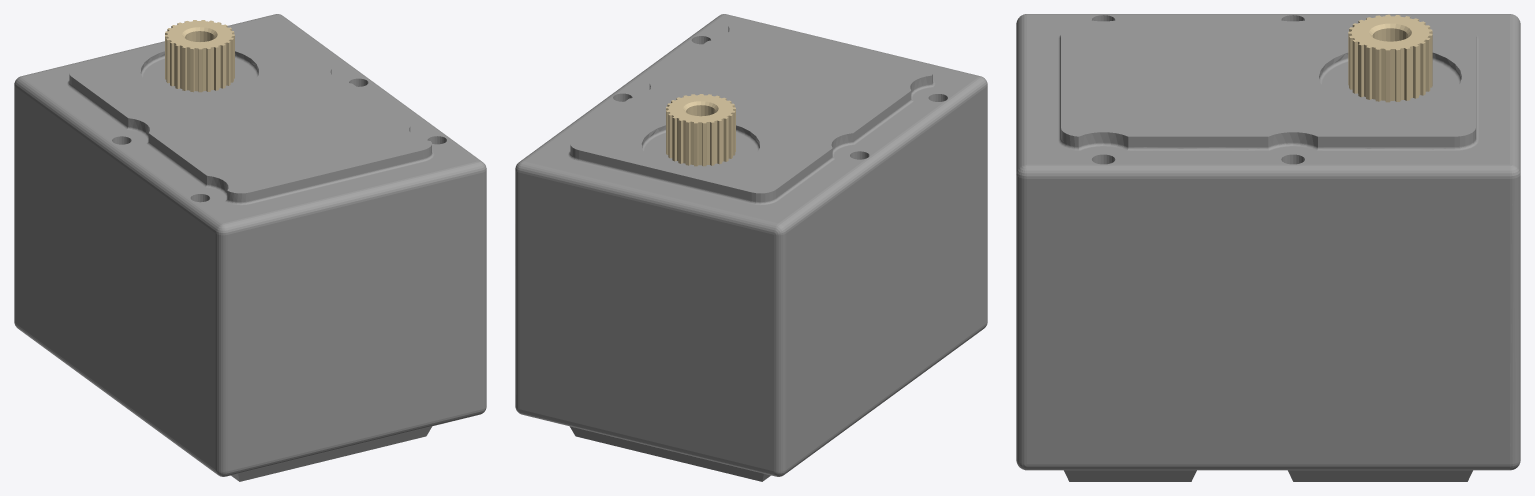
File: arm_assembly__Hiwonder_HX_12H_1.3dxml.glb
The picture shows the model from 3 angles, left to right: view 1: azimuth 30°, elevation 25°; view 2: azimuth 150°, elevation 25°; view 3: azimuth 270°, elevation 25°; orthographic projection. The views are drawn at different scales.
Visible parts, largest first — view 1: Hiwonder HX-12H; view 2: Hiwonder HX-12H; view 3: Hiwonder HX-12H.
Boxes of the visible parts, left/top/right/bottom form: Hiwonder HX-12H: left=14, top=14, right=486, bottom=481; Hiwonder HX-12H: left=515, top=14, right=987, bottom=481; Hiwonder HX-12H: left=1016, top=14, right=1520, bottom=481.
Bounding box in the file's own units: 0.0262 × 0.0307 × 0.0353.
